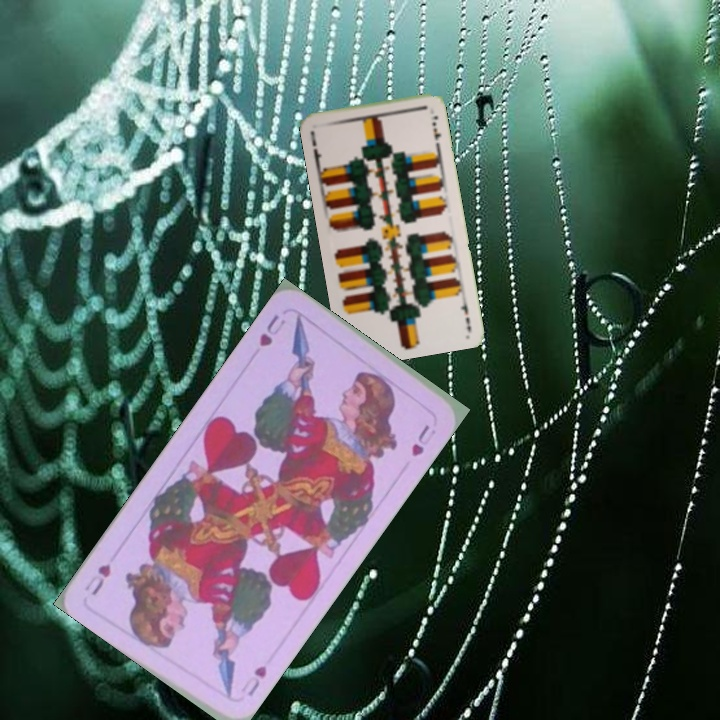E7: (306, 127, 324, 167), (457, 292, 473, 332)
HU: (255, 310, 288, 350), (236, 661, 270, 699)
